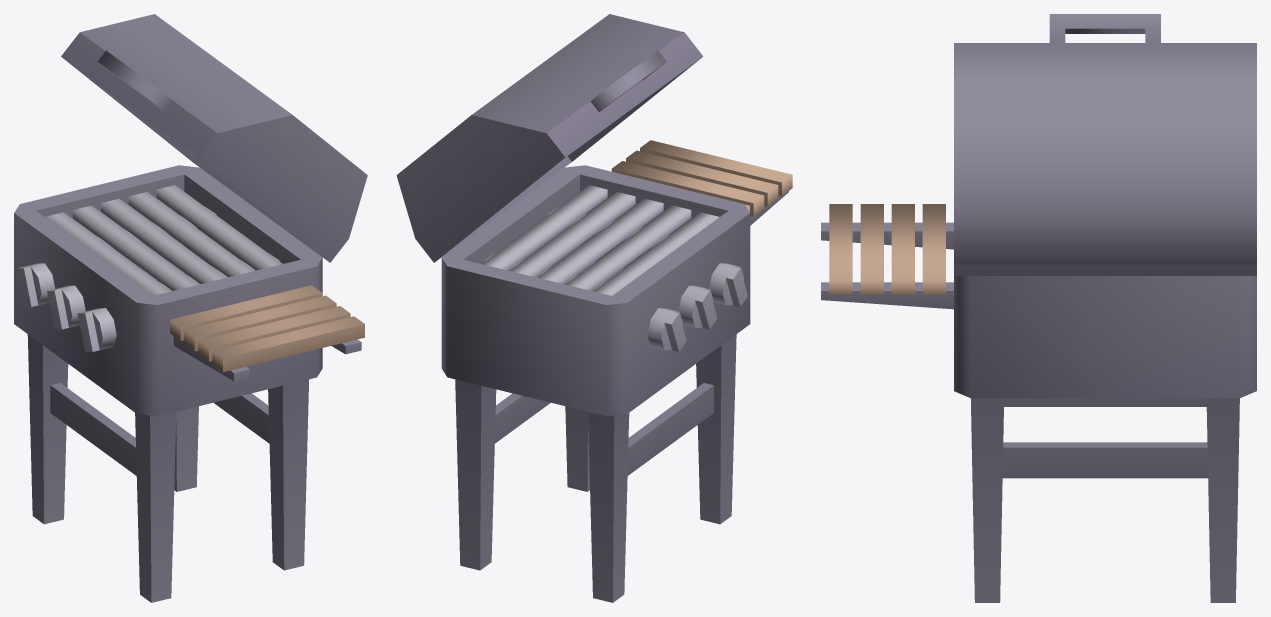
The model's file is barbecue-rectangle.glb.
The picture shows the model from 3 angles, left to right: view 1: azimuth 30°, elevation 25°; view 2: azimuth 150°, elevation 25°; view 3: azimuth 270°, elevation 25°; orthographic projection. The views are drawn at different scales.
Visible parts, largest first — view 1: barbecue-rectangle; view 2: barbecue-rectangle; view 3: barbecue-rectangle.
Boxes of the visible parts, left/top/right/bottom form: barbecue-rectangle: left=14, top=14, right=367, bottom=602; barbecue-rectangle: left=396, top=14, right=792, bottom=602; barbecue-rectangle: left=821, top=14, right=1256, bottom=602.
Bounding box in the file's own units: 0.4601 × 0.8654 × 0.6471.
